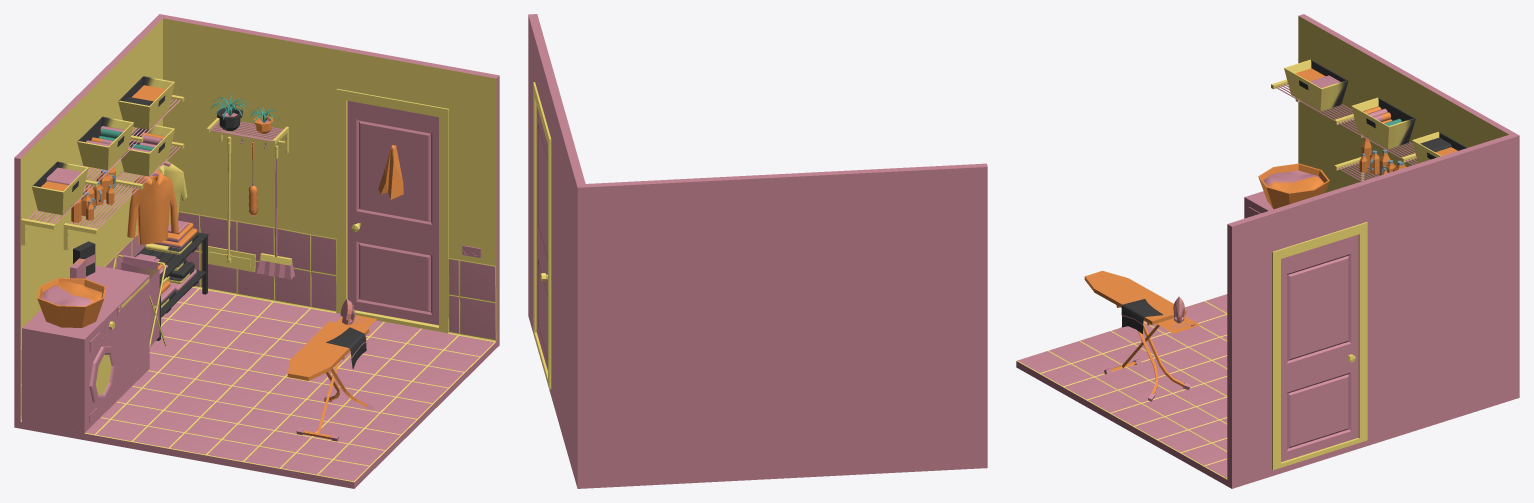
File: Laundry.fbx
3 renders of one model, left to right at view 1: azimuth 30°, elevation 25°; view 2: azimuth 150°, elevation 25°; view 3: azimuth 270°, elevation 25°, orthographic. The views are drawn at different scales.
Parts seen in each view (by area): view 1: Laundry_Base, Laundry_Floortile, Laundry_Door, Laundry_Washer, Laundry_Dryer, Laundry_Ironing_Installation, Laundry_Clother1, Laundry_Basket, Laundry_Shelves, Laundry_Towels3, Laundry_Basket4, Laundry_Basket3 (+15 smaller); view 2: Laundry_Base, Laundry_Door; view 3: Laundry_Base, Laundry_Door, Laundry_Floortile, Laundry_Ironing_Installation, Laundry_Basket, Laundry_Basket4, Laundry_Basket1, Laundry_Shelves, Laundry_Bottle, Laundry_Towels2, Laundry_Towel2, Laundry_Basket3.
Part boxes in pixels (x1,y1,x2,y2): Laundry_Base: (14,14,499,488); Laundry_Floortile: (20,211,496,482); Laundry_Door: (336,89,448,332); Laundry_Washer: (22,304,117,433); Laundry_Dryer: (86,265,149,400); Laundry_Ironing_Installation: (287,299,376,441); Laundry_Clother1: (127,170,178,244); Laundry_Basket: (37,278,106,327); Laundry_Shelves: (21,95,184,250); Laundry_Towels3: (135,220,198,308); Laundry_Basket4: (77,116,133,170); Laundry_Basket3: (118,76,174,129); Laundry_Base: (528,14,987,488); Laundry_Door: (533,82,551,389); Laundry_Base: (1016,14,1519,488); Laundry_Door: (1272,222,1367,470); Laundry_Floortile: (1016,294,1227,479); Laundry_Ironing_Installation: (1084,270,1200,401); Laundry_Basket: (1258,163,1329,209); Laundry_Basket4: (1351,97,1415,149); Laundry_Basket1: (1284,59,1348,111); Laundry_Shelves: (1271,79,1417,182); Laundry_Bottle: (1359,136,1406,175); Laundry_Towels2: (1295,68,1457,155); Laundry_Towel2: (1121,299,1162,333); Laundry_Basket3: (1412,131,1466,163).
Bounding box in the file's own units: 700 × 402 × 700.
